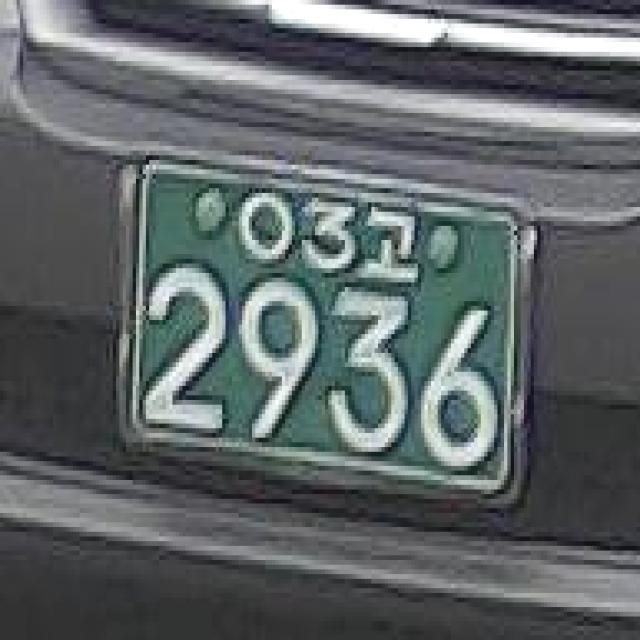illegal_plate: (110, 131, 546, 515)
